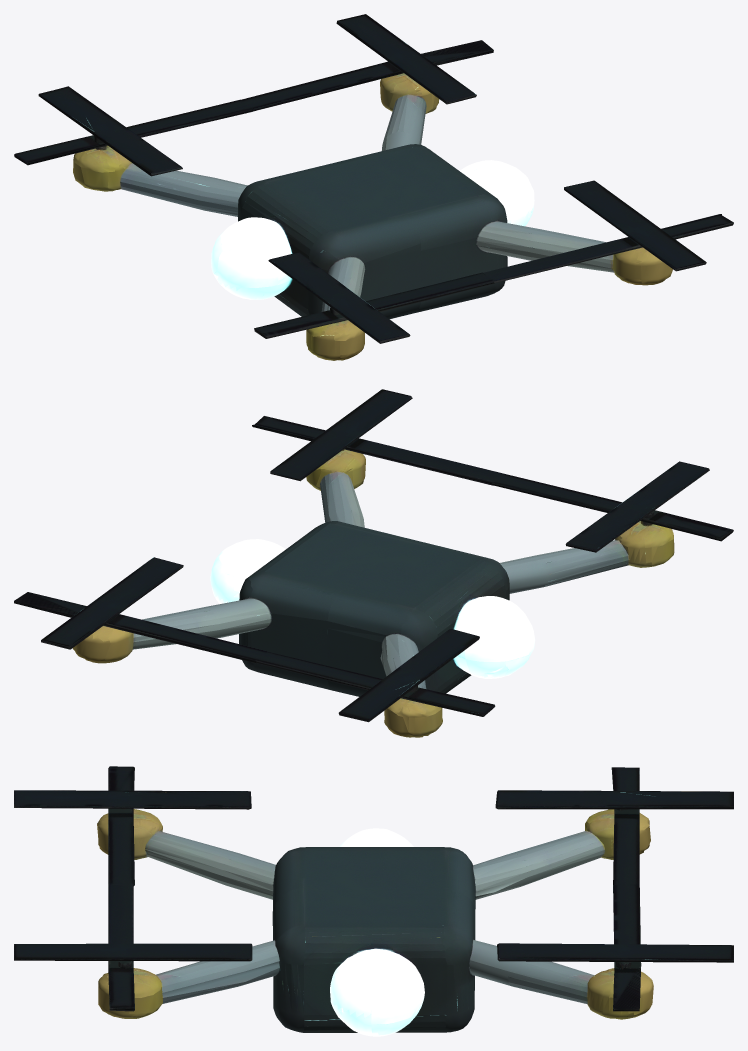
Rendered from micro-drone.glb.
3 renders of one model, top to bottom at view 1: azimuth 30°, elevation 25°; view 2: azimuth 150°, elevation 25°; view 3: azimuth 270°, elevation 25°, orthographic. The views are drawn at different scales.
Bounding box in the file's own units: 0.7949 × 0.1792 × 1.
Materials: 1 (1 with a texture image).
